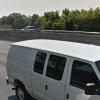Tree: (30, 7, 94, 34)
